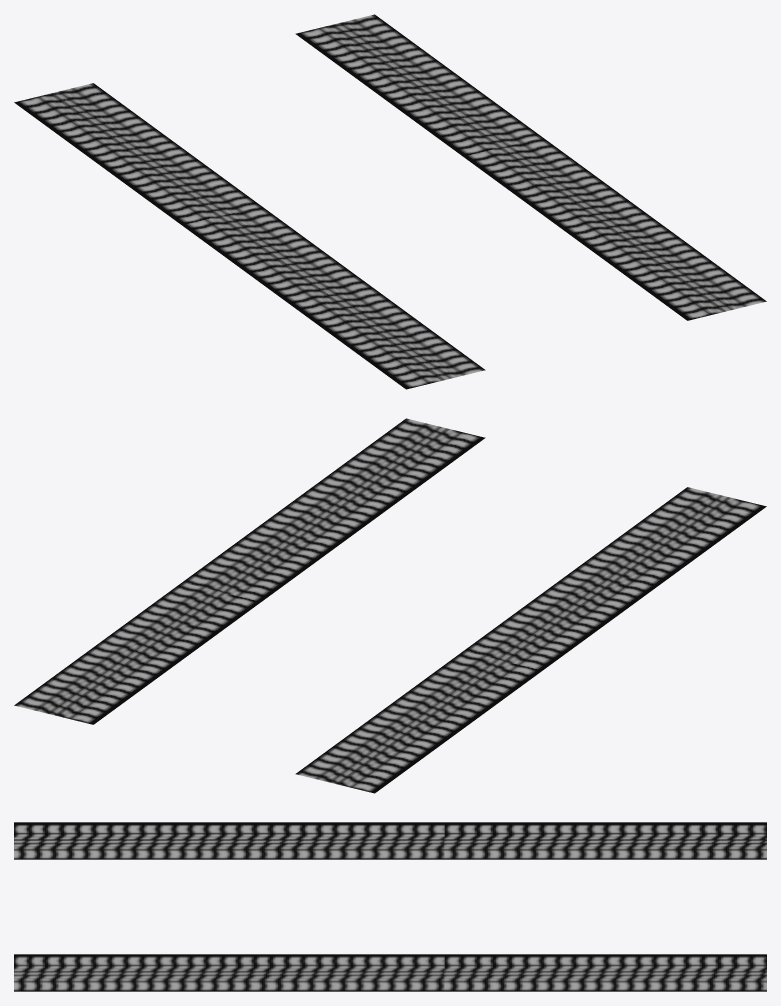
File: Model_TireMarks_Straight.fbx
3 renders of one model, top to bottom at view 1: azimuth 30°, elevation 25°; view 2: azimuth 150°, elevation 25°; view 3: azimuth 270°, elevation 25°, orthographic. The views are drawn at different scales.
Visible parts, largest first — view 1: TireMarks_Straight; view 2: TireMarks_Straight; view 3: TireMarks_Straight.
Part boxes in pixels (box(x1,y1,x2,y2)): TireMarks_Straight: box(14, 14, 766, 389); TireMarks_Straight: box(14, 418, 766, 793); TireMarks_Straight: box(14, 822, 766, 991).
Size of the model in its own units: 182 by 7.62e-14 by 343.
